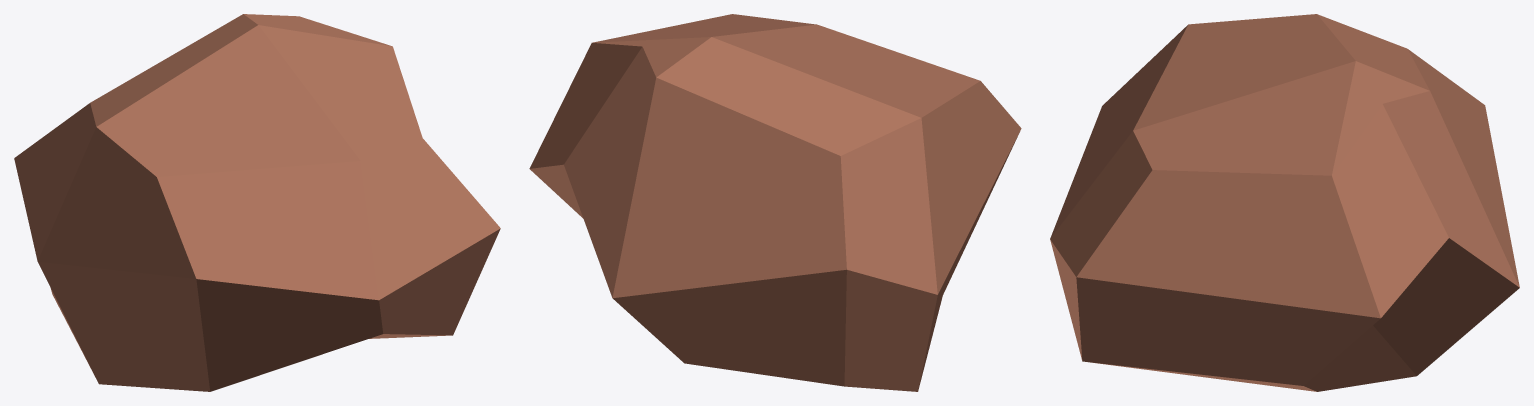
The model's file is kamien 3.fbx.
3 renders of one model, left to right at view 1: azimuth 30°, elevation 25°; view 2: azimuth 150°, elevation 25°; view 3: azimuth 270°, elevation 25°, orthographic. The views are drawn at different scales.
Parts seen in each view (by area): view 1: Cube; view 2: Cube; view 3: Cube.
Boxes of the visible parts, x1=… form: Cube: x1=14, y1=14, x2=500, y2=391; Cube: x1=529, y1=14, x2=1021, y2=391; Cube: x1=1050, y1=14, x2=1519, y2=391.
Size of the model in its own units: 223 by 172 by 218.
Materials: 1 (1 with a texture image).
